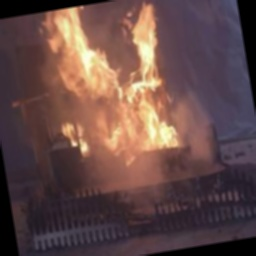fire: (25, 0, 197, 199)
